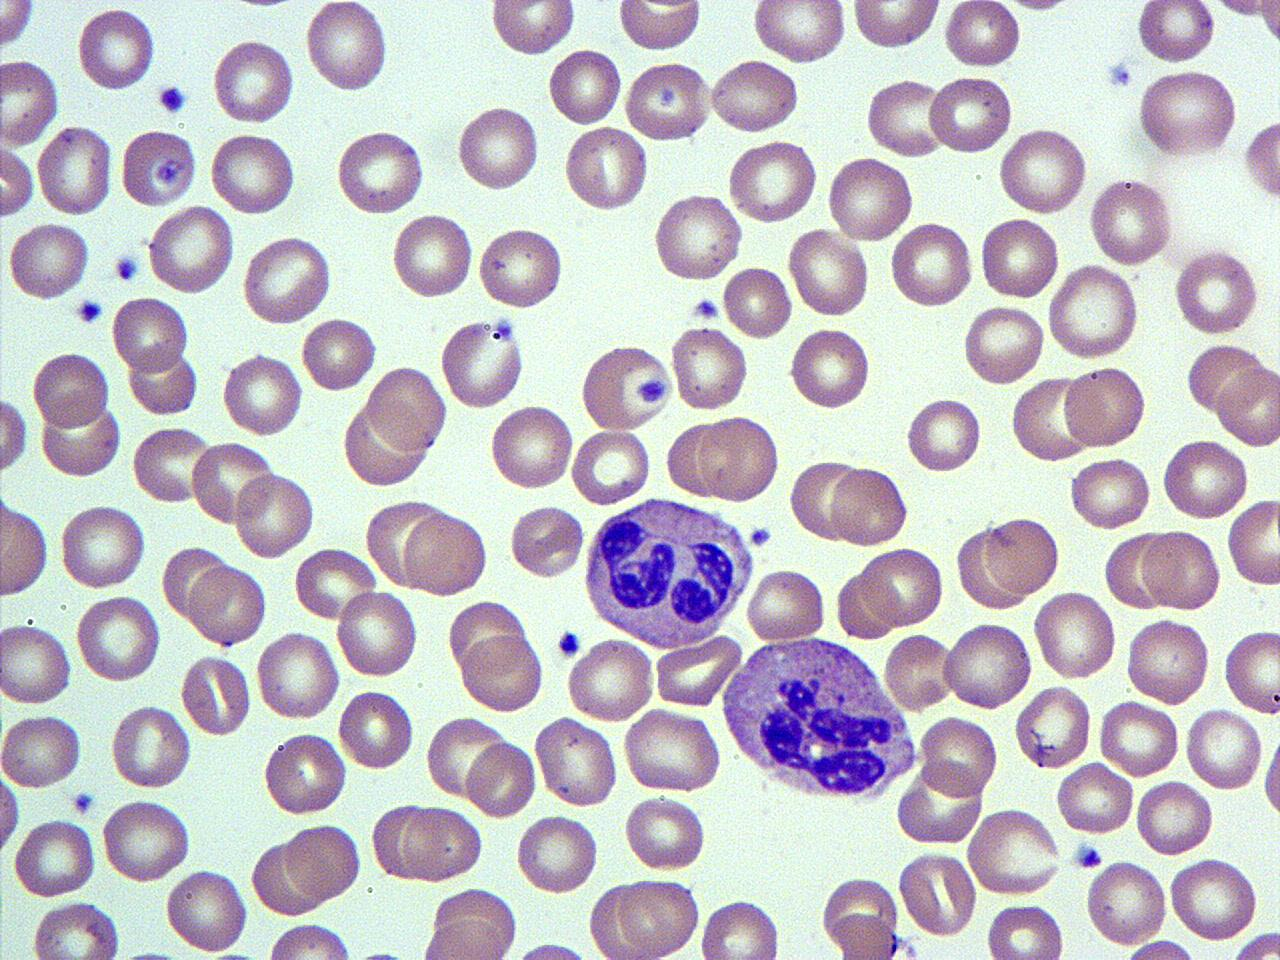Platelets: (156, 81, 188, 116), (1071, 839, 1105, 870), (113, 252, 142, 286), (75, 296, 106, 326), (1107, 59, 1135, 91), (691, 295, 723, 323), (556, 627, 582, 660), (746, 525, 774, 548)
RBC: (1134, 67, 1240, 159), (1047, 260, 1141, 360), (964, 804, 1064, 898), (622, 705, 724, 795), (144, 200, 236, 298), (340, 394, 434, 489), (240, 232, 334, 327), (942, 616, 1034, 712), (653, 190, 746, 284), (578, 342, 674, 433), (99, 794, 193, 886), (1123, 614, 1213, 710), (254, 626, 342, 724), (1171, 245, 1263, 338), (532, 713, 621, 809), (996, 125, 1090, 215), (1032, 585, 1118, 683), (826, 152, 916, 245), (894, 756, 984, 848), (564, 635, 656, 725), (1168, 855, 1262, 943), (726, 136, 820, 224), (439, 314, 526, 409), (304, 0, 390, 96), (232, 466, 316, 564), (336, 127, 428, 216), (401, 508, 490, 600), (58, 500, 147, 592), (1084, 855, 1170, 950), (786, 225, 872, 320), (1160, 434, 1250, 524), (562, 122, 649, 215), (455, 101, 541, 195), (488, 403, 576, 494), (1061, 361, 1149, 452), (163, 864, 250, 956), (262, 728, 349, 820), (335, 586, 420, 680), (477, 223, 566, 312), (208, 129, 298, 217), (1087, 174, 1173, 266), (788, 323, 875, 413), (76, 593, 162, 684), (889, 218, 975, 309), (211, 36, 296, 127), (389, 211, 474, 302), (1009, 373, 1093, 465), (191, 436, 275, 528), (514, 810, 601, 898), (624, 58, 714, 143), (698, 412, 781, 504), (221, 348, 304, 439), (669, 321, 750, 414), (35, 122, 113, 218), (926, 71, 1014, 156), (977, 213, 1061, 302), (916, 711, 1002, 797), (13, 813, 97, 901), (858, 544, 946, 628), (76, 4, 158, 94), (898, 848, 978, 940), (7, 218, 92, 304), (424, 712, 507, 800), (458, 632, 546, 715), (110, 701, 192, 790), (1014, 680, 1092, 772), (129, 422, 213, 507), (1140, 526, 1222, 613), (652, 631, 742, 710), (864, 74, 948, 158), (962, 302, 1045, 387), (622, 792, 708, 874), (368, 364, 448, 452), (708, 59, 800, 135), (0, 710, 85, 792), (337, 685, 416, 773), (617, 875, 701, 957), (570, 424, 652, 508), (38, 400, 124, 480), (830, 462, 910, 548), (822, 872, 900, 960), (189, 562, 268, 648), (1099, 698, 1181, 780), (293, 543, 377, 623), (1183, 706, 1263, 790), (31, 346, 110, 431), (284, 819, 363, 904), (398, 804, 484, 882), (546, 43, 624, 129), (1054, 757, 1136, 838), (300, 312, 380, 395), (119, 125, 198, 209), (786, 457, 864, 542), (1067, 454, 1153, 531), (0, 618, 73, 708), (1134, 776, 1214, 858), (904, 393, 983, 476), (180, 648, 252, 738), (744, 566, 826, 644), (984, 513, 1061, 596), (882, 628, 956, 714), (750, 0, 848, 64), (110, 293, 189, 372), (508, 502, 586, 582), (369, 800, 440, 883), (720, 262, 794, 341), (1102, 528, 1172, 611), (466, 738, 536, 820), (27, 899, 122, 959), (942, 0, 1022, 71), (1214, 362, 1280, 448), (0, 56, 61, 148), (698, 894, 782, 960), (1135, 0, 1217, 66), (127, 345, 201, 418), (1223, 626, 1279, 718), (984, 900, 1068, 960), (849, 0, 944, 53), (1225, 496, 1279, 588), (488, 1, 574, 58), (0, 502, 50, 599), (616, 0, 704, 53), (417, 916, 517, 960), (263, 920, 356, 960), (1240, 115, 1280, 205), (0, 142, 36, 218), (0, 390, 29, 477), (1114, 936, 1204, 960), (0, 766, 21, 866), (505, 938, 600, 960), (1261, 722, 1279, 829), (0, 0, 37, 52), (1230, 927, 1280, 960), (1256, 0, 1280, 49)
WBC: (716, 631, 920, 809), (580, 493, 753, 650)
